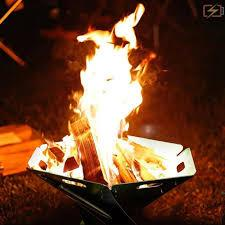fire: (55, 1, 160, 159)
